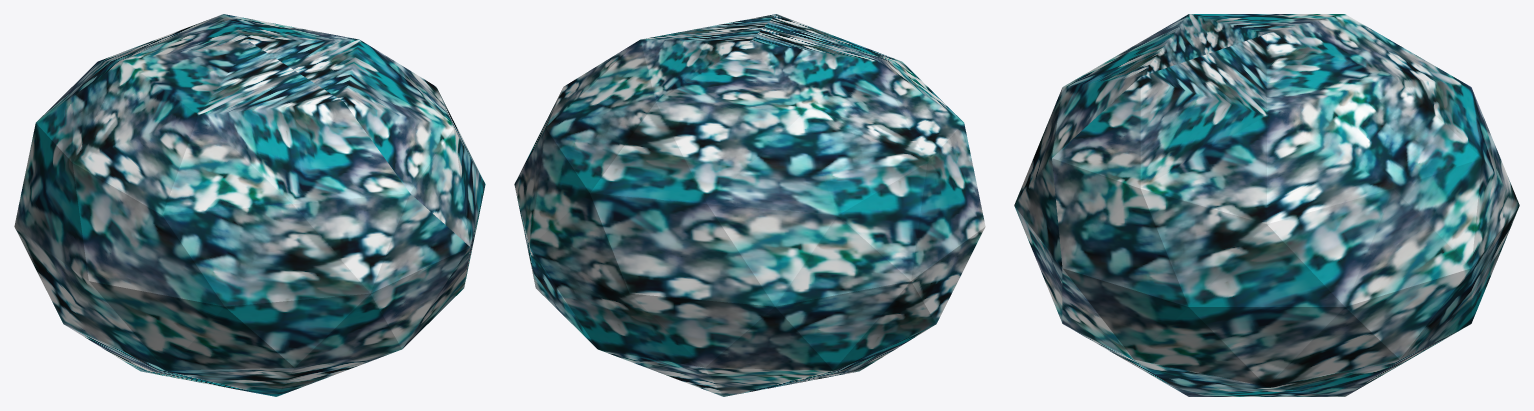
The model's file is Island_2_Tree_2_Leaf_2.gltf.
The picture shows the model from 3 angles, left to right: view 1: azimuth 30°, elevation 25°; view 2: azimuth 150°, elevation 25°; view 3: azimuth 270°, elevation 25°; orthographic projection. The views are drawn at different scales.
Visible parts, largest first — view 1: Island_2_Tree_2_Leaf_2; view 2: Island_2_Tree_2_Leaf_2; view 3: Island_2_Tree_2_Leaf_2.
Part boxes in pixels (x1,y1,x2,y2): Island_2_Tree_2_Leaf_2: (14, 14, 485, 396); Island_2_Tree_2_Leaf_2: (514, 14, 985, 396); Island_2_Tree_2_Leaf_2: (1014, 14, 1519, 396).
Bounding box in the file's own units: 0.5871 × 0.4626 × 0.6174.
1 material, 1 textured.
